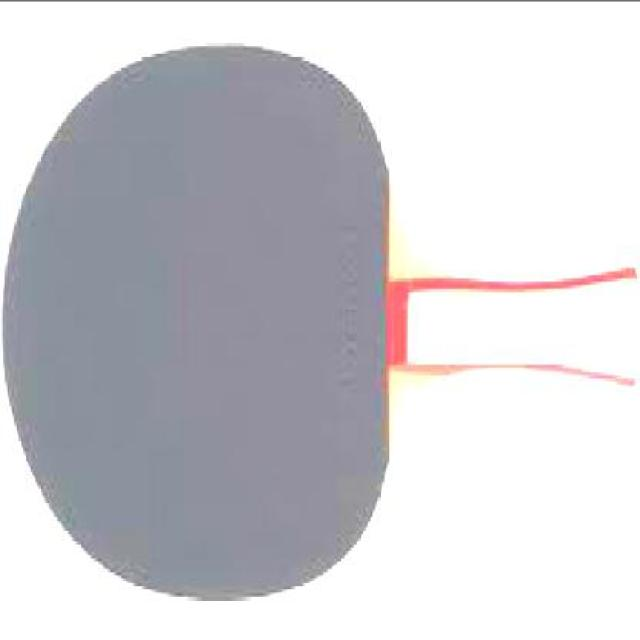table_tennis_racket: (4, 37, 422, 609)
